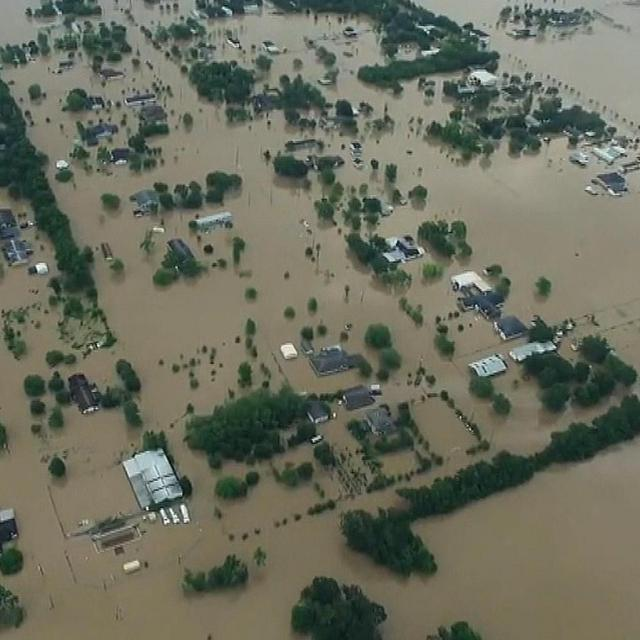flood: (0, 438, 640, 640)
house: (115, 449, 188, 507), (91, 20, 131, 61), (190, 210, 233, 242), (68, 372, 99, 416), (310, 351, 352, 376), (470, 352, 508, 378), (452, 272, 492, 296), (1, 505, 18, 550), (496, 315, 526, 339), (342, 384, 370, 408), (367, 409, 394, 433), (466, 68, 498, 88), (4, 240, 28, 266), (134, 190, 159, 212), (124, 93, 158, 107), (311, 406, 329, 424)
